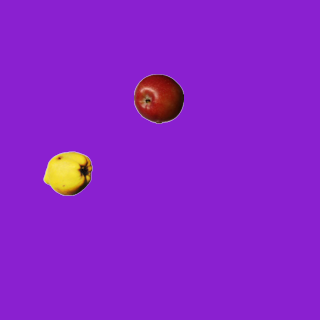Apple Braeburn: (133, 73, 183, 123)
Quince: (42, 148, 92, 198)
